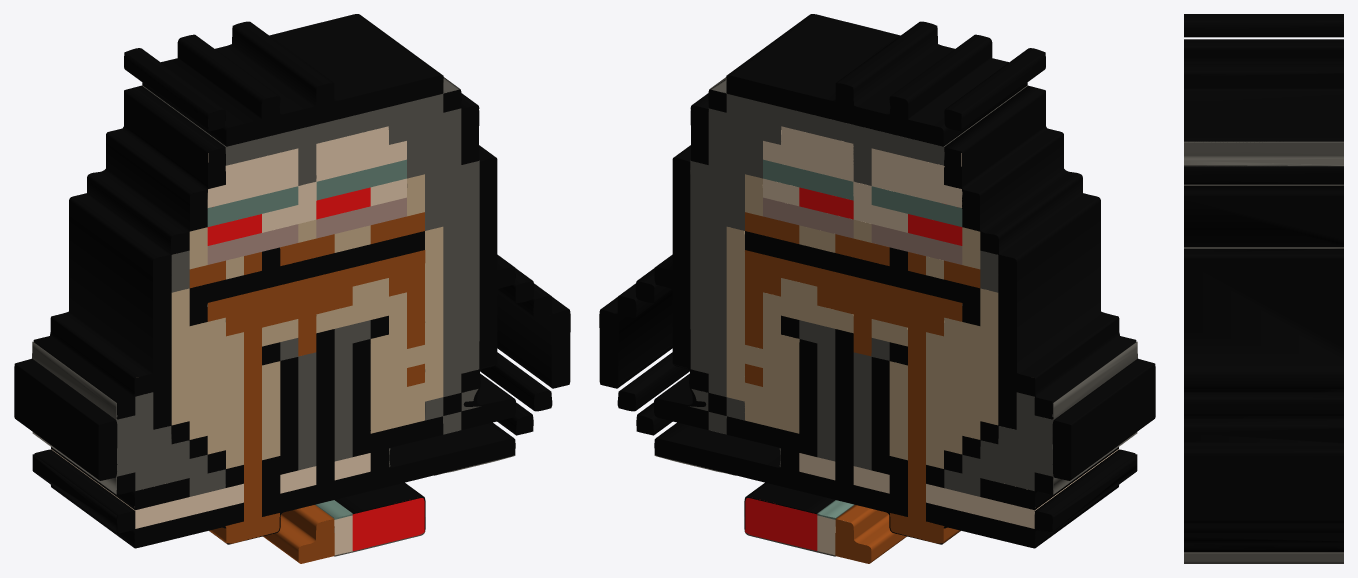
Rendered from Toadz_4960.glb.
3 renders of one model, left to right at view 1: azimuth 30°, elevation 25°; view 2: azimuth 150°, elevation 25°; view 3: azimuth 270°, elevation 25°, orthographic. The views are drawn at different scales.
Visible parts, largest first — view 1: Curve; view 2: Curve; view 3: Curve.
Part boxes in pixels (x1=…): Curve: x1=14, y1=14, x2=570, y2=563; Curve: x1=599, y1=14, x2=1155, y2=563; Curve: x1=1184, y1=14, x2=1343, y2=563.
Bounding box in the file's own units: 3.24 × 3.12 × 1.
